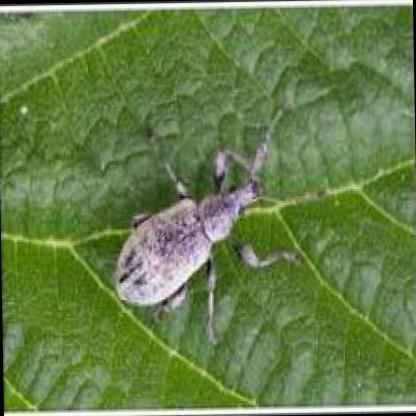ash weevil: (115, 117, 307, 342)
